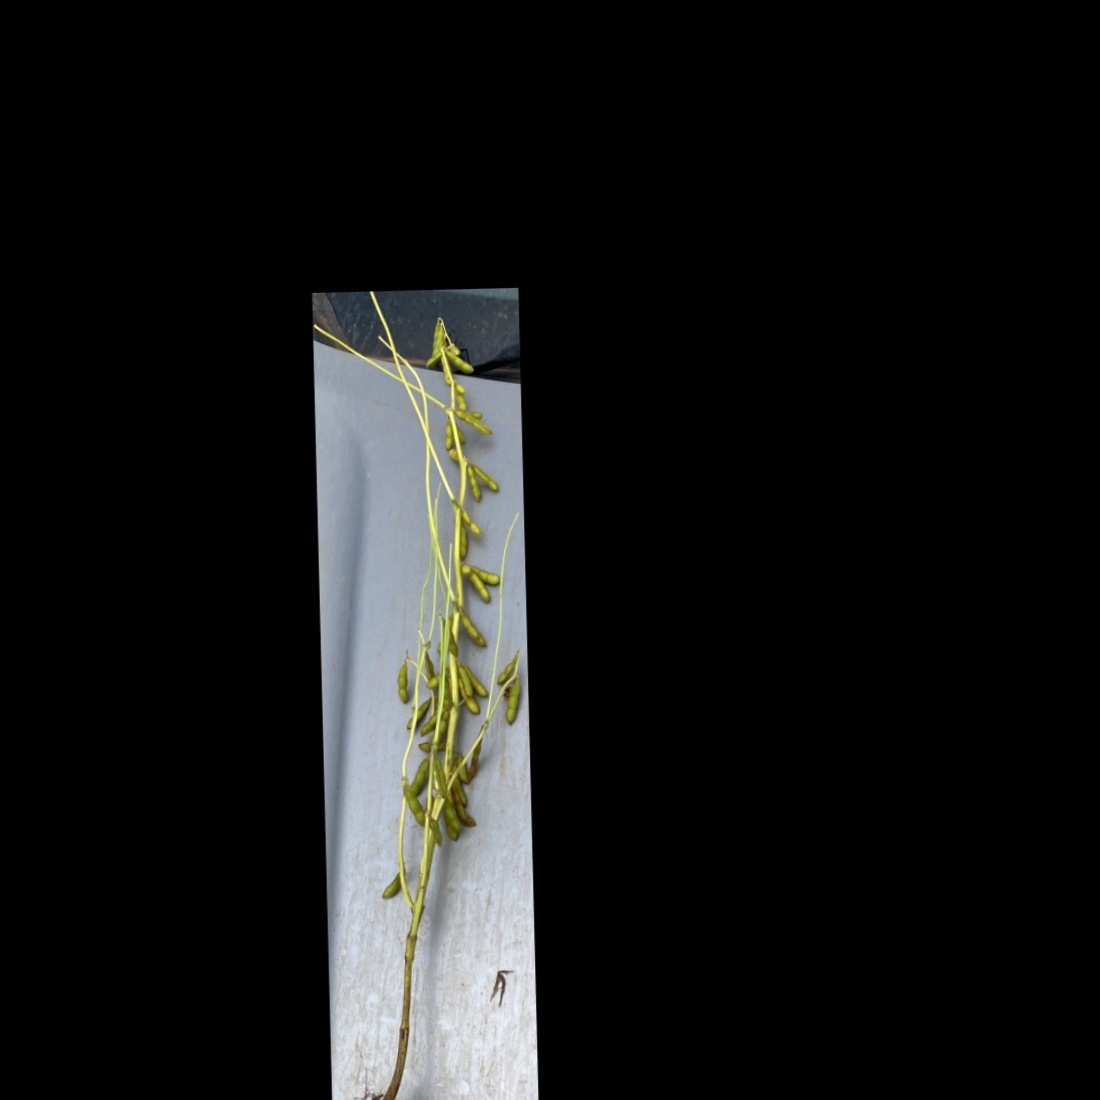pod: (401, 782, 425, 827), (502, 672, 521, 727), (377, 866, 407, 901), (460, 611, 488, 649), (394, 655, 412, 708), (441, 349, 477, 373), (424, 814, 444, 851), (495, 654, 518, 686), (463, 463, 482, 504), (422, 350, 442, 369), (442, 418, 453, 450)
soy: (316, 309, 534, 1100)
